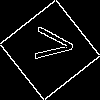V: (25, 25, 75, 63)
